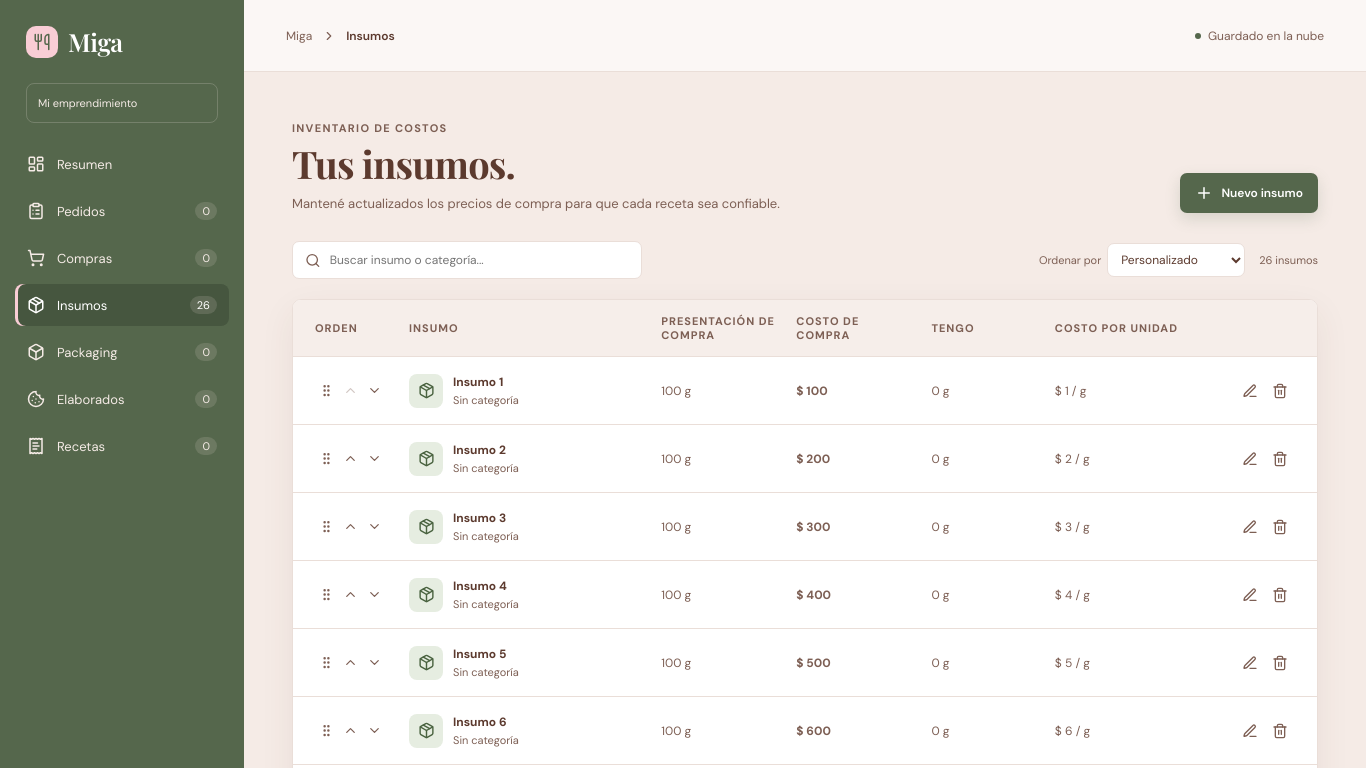
Test case: Ingredients sorting and pagination › keeps the default sort out of the URL
The image size is (1366, 768).
Select "Nombre" in the dropdown labelled "Ordenar por" at [1176, 260], box [1107,243,1245,277]
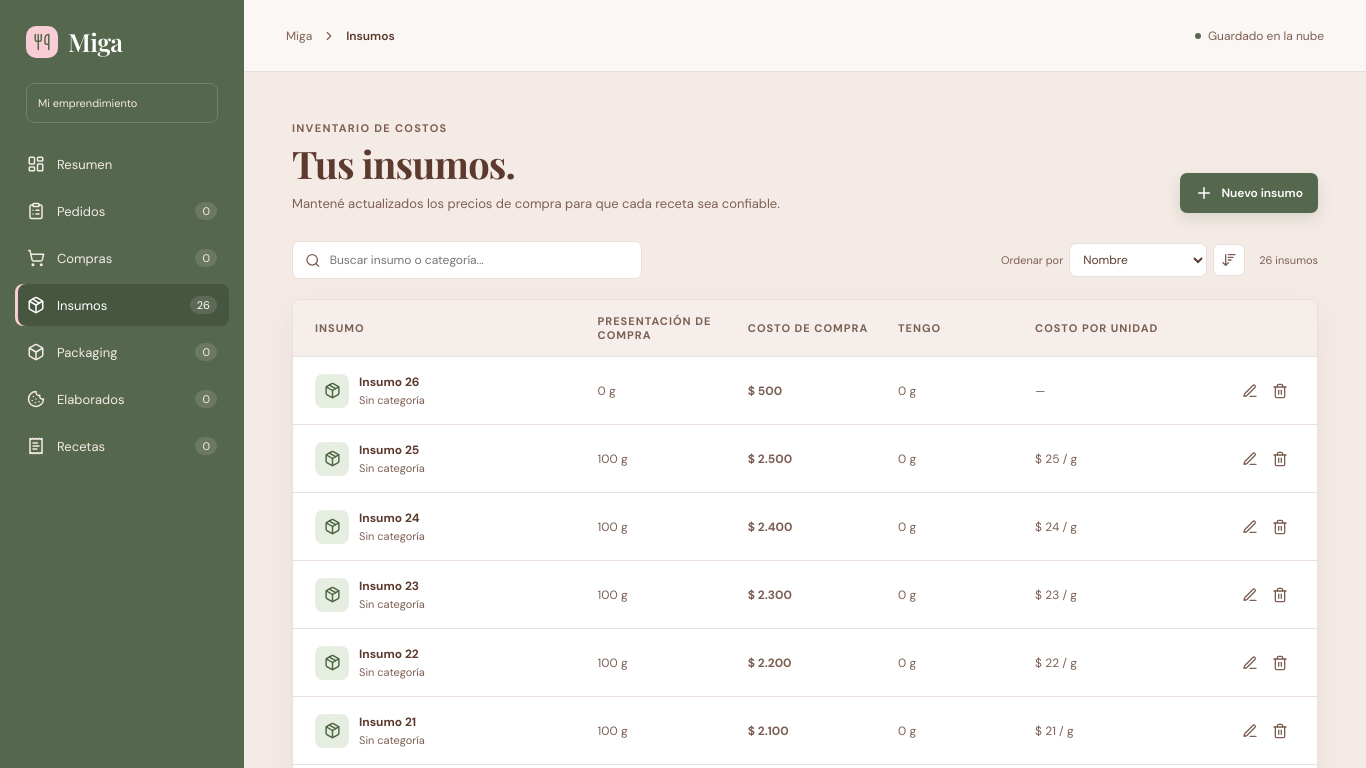
Now the text "Insumo 26" is shown, box [359,374,425,390]
Select "Personalizado" in the dropdown labelled "Ordenar por" at [1138, 260], box [1069,243,1207,277]
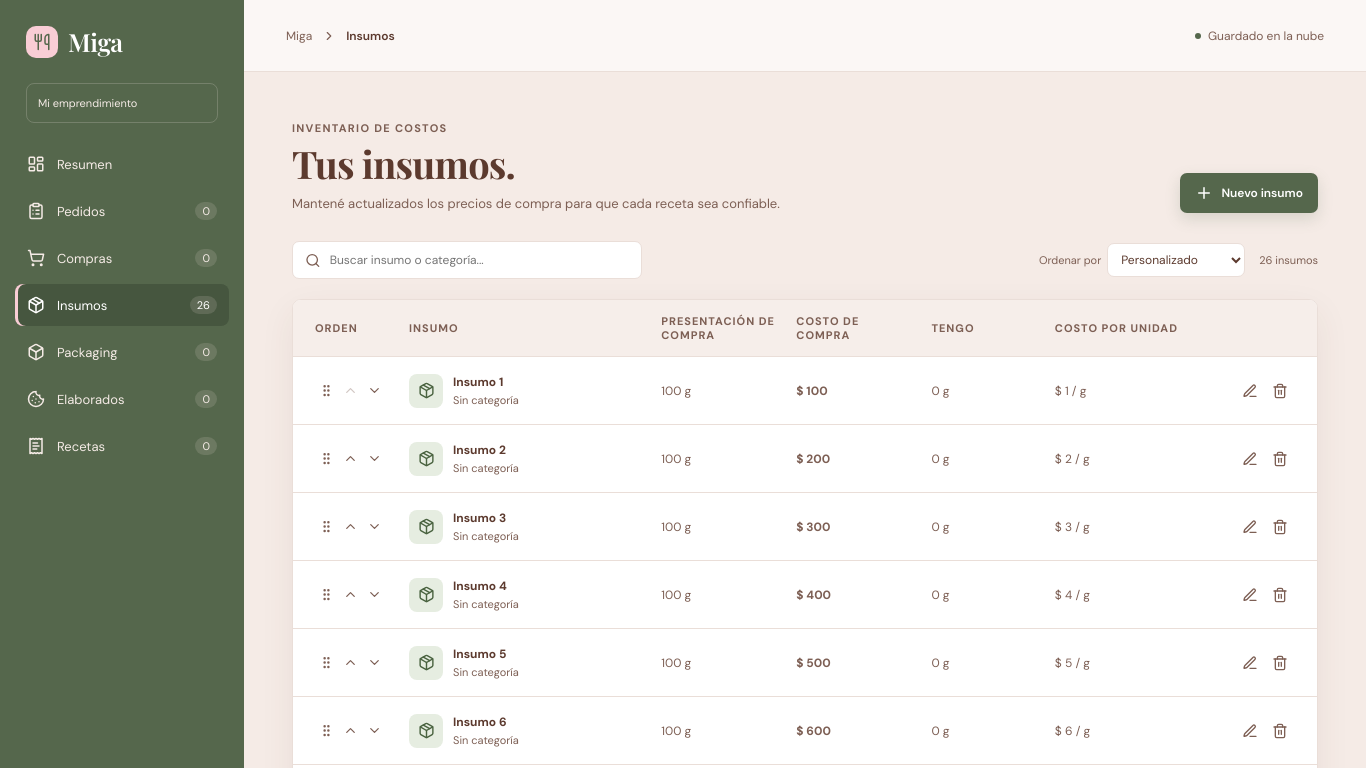
Now the text "Insumo 1" is shown, box [453,374,503,390]
